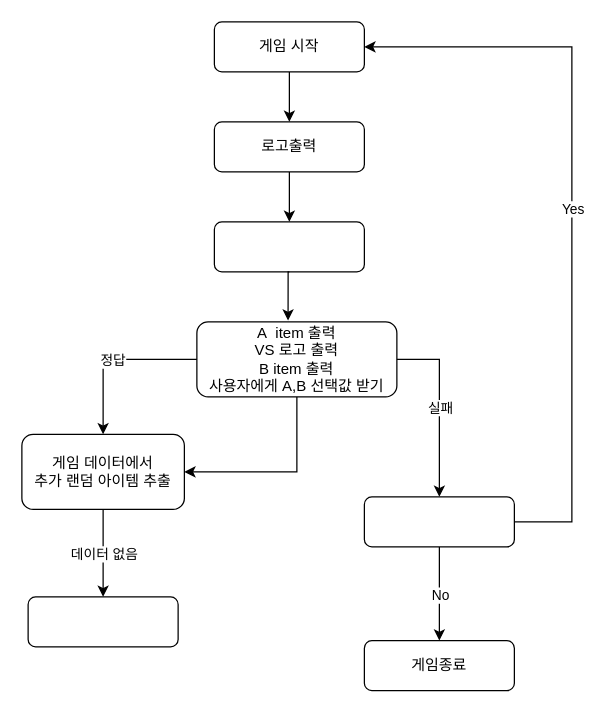
Some shapes in this 605 by 713 pixel diagram are drawn without their labels. Here are the shapes that lost their labels. From the top down, the box of each, then its label:
(213, 221, 364, 272): 게임 데이터에서 2개 아이템 추출
(363, 496, 514, 547): 재도전 여부 확인
(27, 596, 178, 647): 게임 클리어
